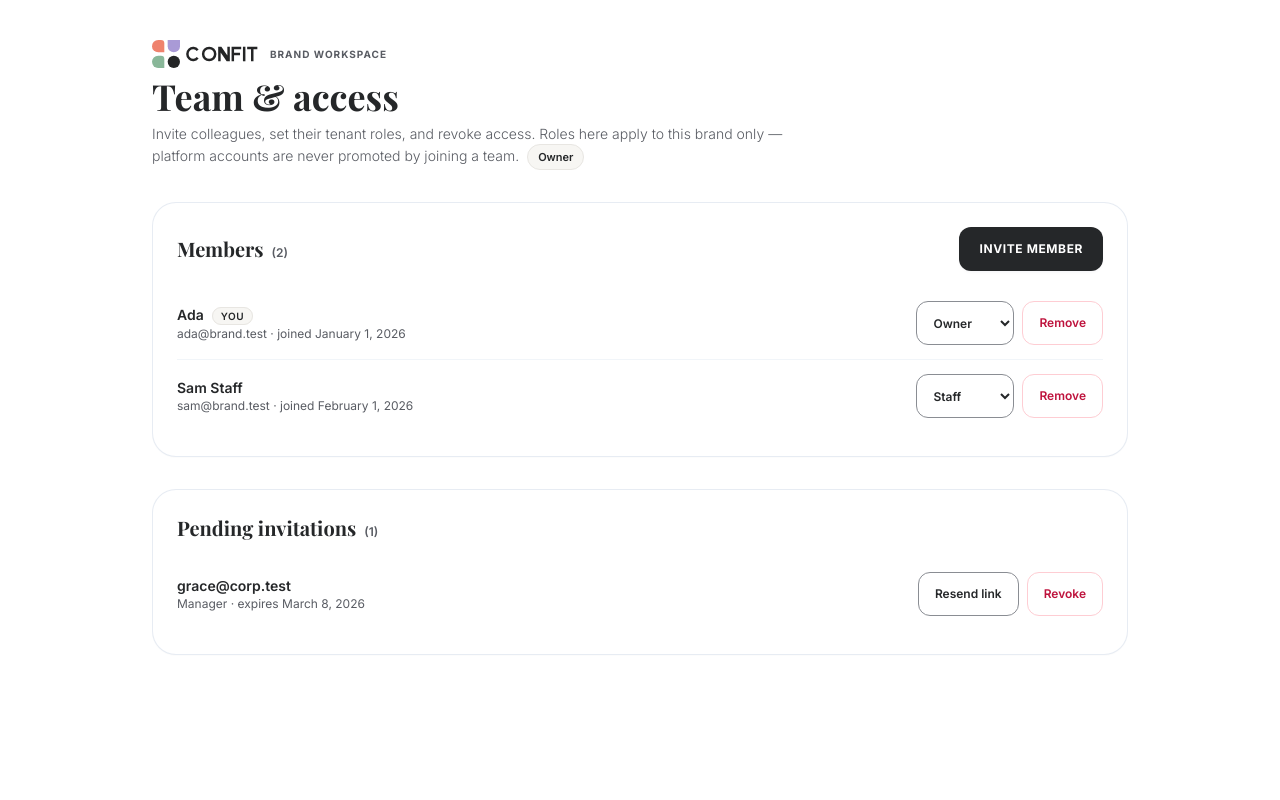
Test: BrandTeamView — confirm dialog honesty › interpolates the member name into the confirm copy (no raw braces)
Click the button "Remove" in the row of "Sam Staff".
click(1063, 396)  # box [1022,374,1103,418]
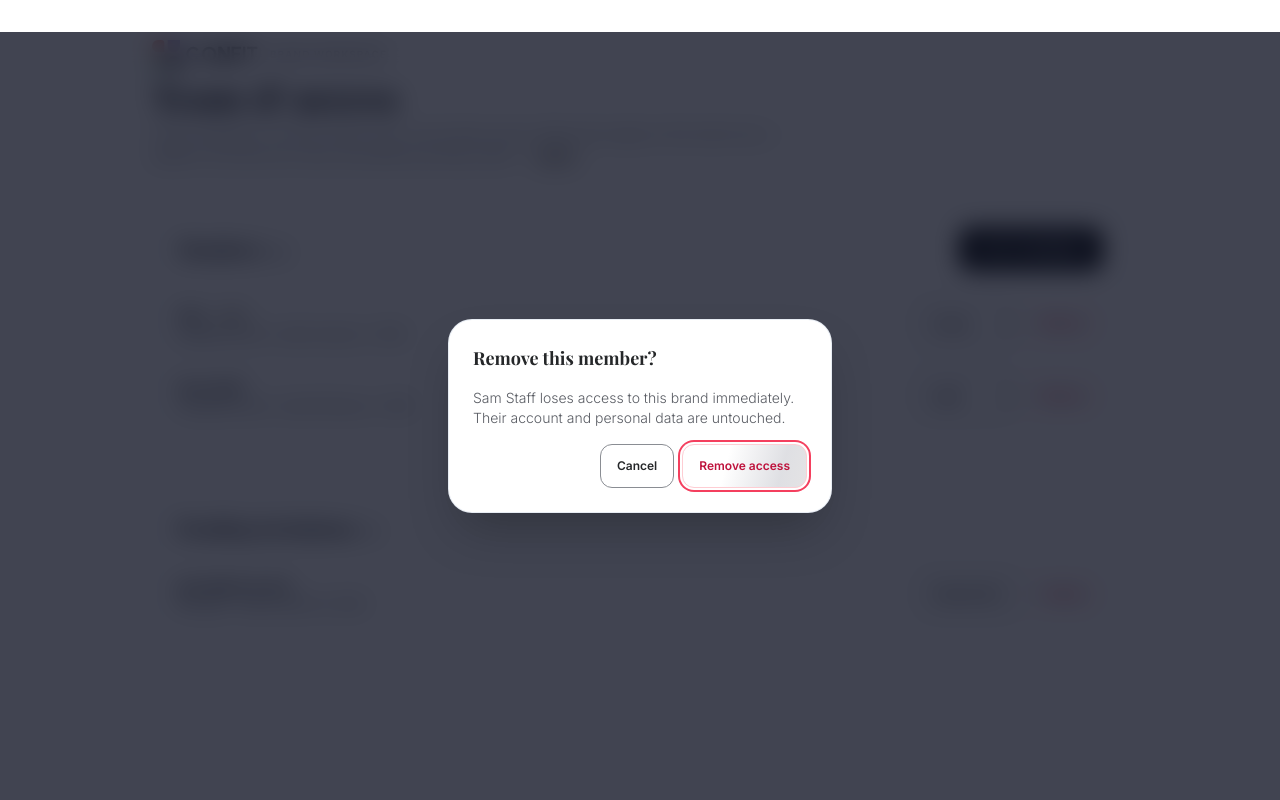
Now the text "Sam Staff loses access to this brand immediately" is shown, box [473,389,794,426]
